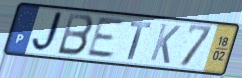7: (178, 23, 215, 70)
B: (55, 12, 95, 58)
E: (85, 17, 128, 60)
J: (30, 11, 68, 55)
K: (148, 22, 182, 66)
T: (126, 20, 153, 62)
